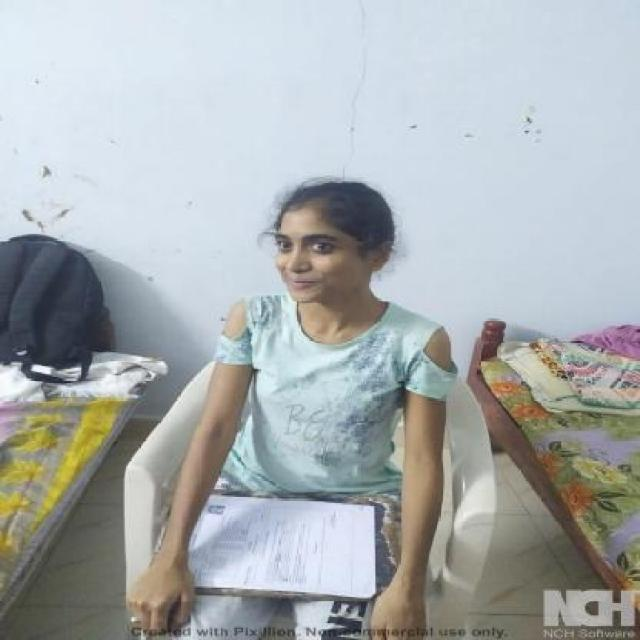cheating: (142, 173, 474, 640)
